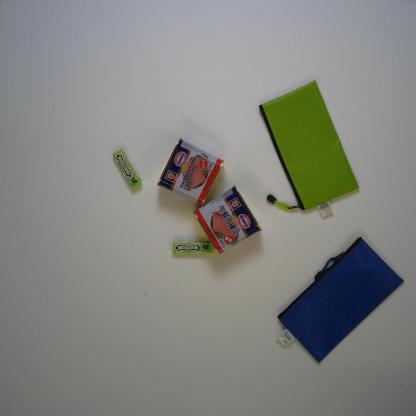Canned Food: (193, 185, 262, 256), (157, 137, 224, 206)
Gum: (112, 148, 143, 190), (172, 240, 215, 254)
Stationery: (276, 237, 404, 363), (258, 79, 360, 220)
